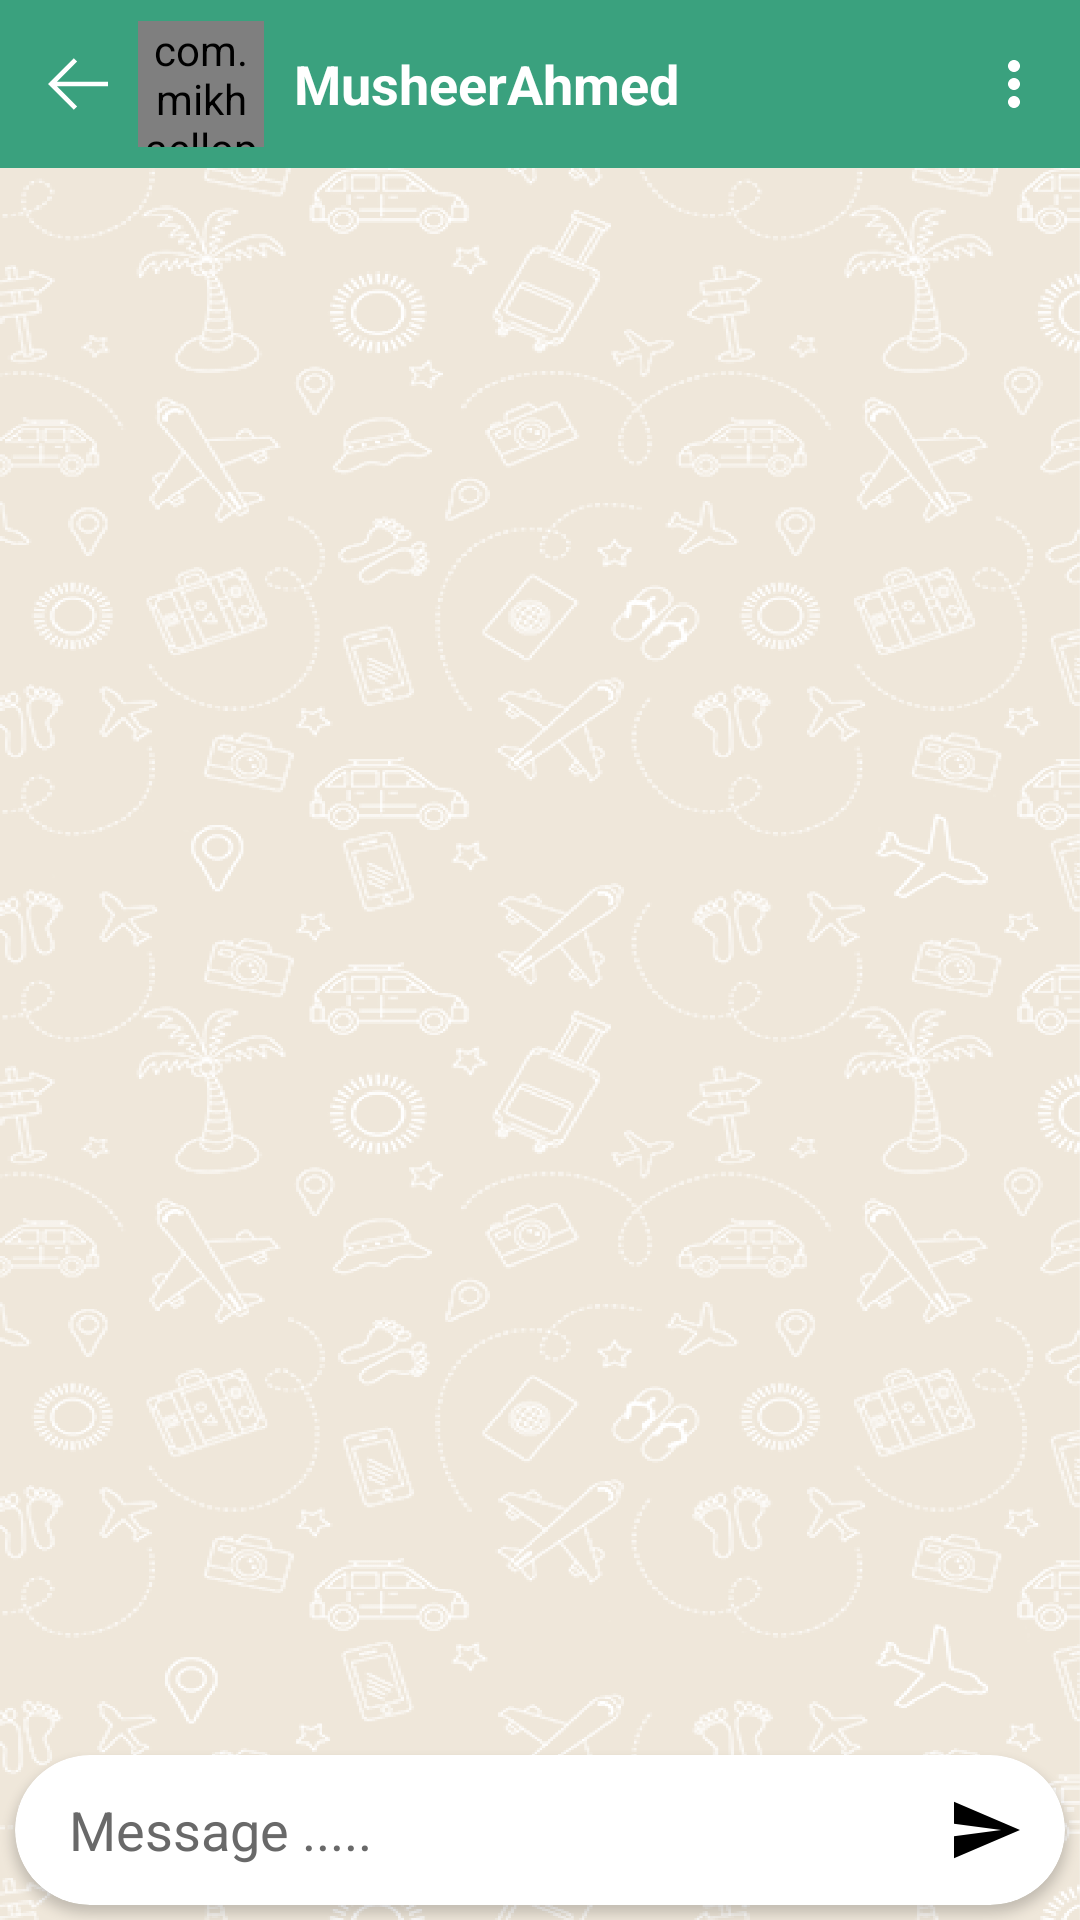

Icon click points for this 1080x1920 phone screenshot, format (x=x, y=y):
left arrow: (x=78, y=84)
send: (x=987, y=1830)
